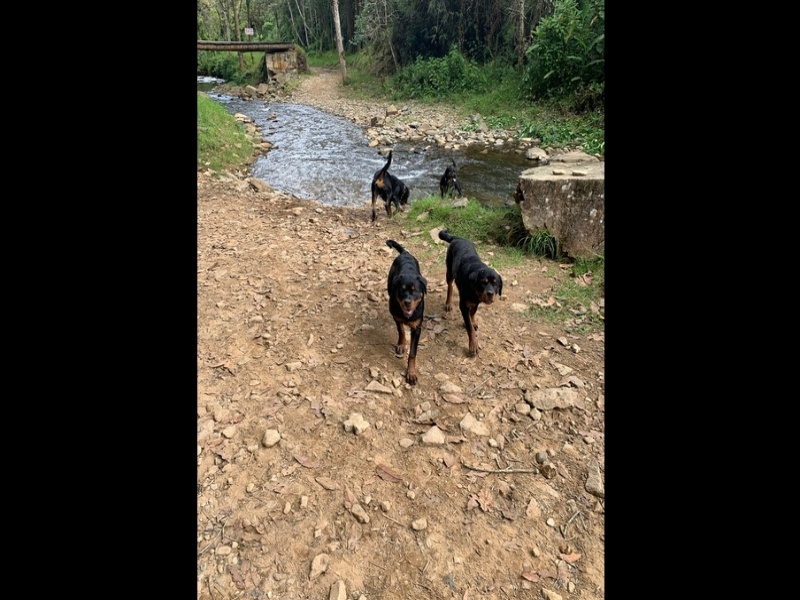dog: (437, 226, 505, 362), (381, 237, 432, 391), (368, 154, 416, 226), (438, 158, 466, 201)
